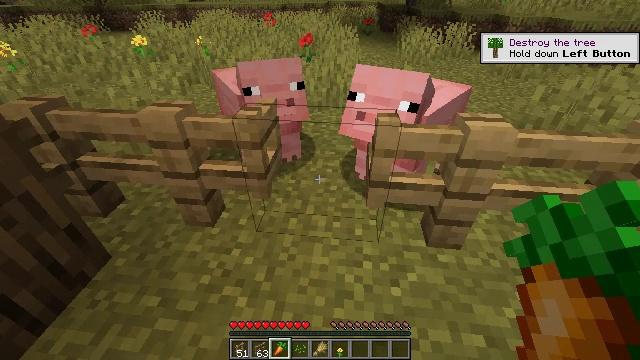pig: (344, 62, 477, 178), (209, 58, 304, 159)
